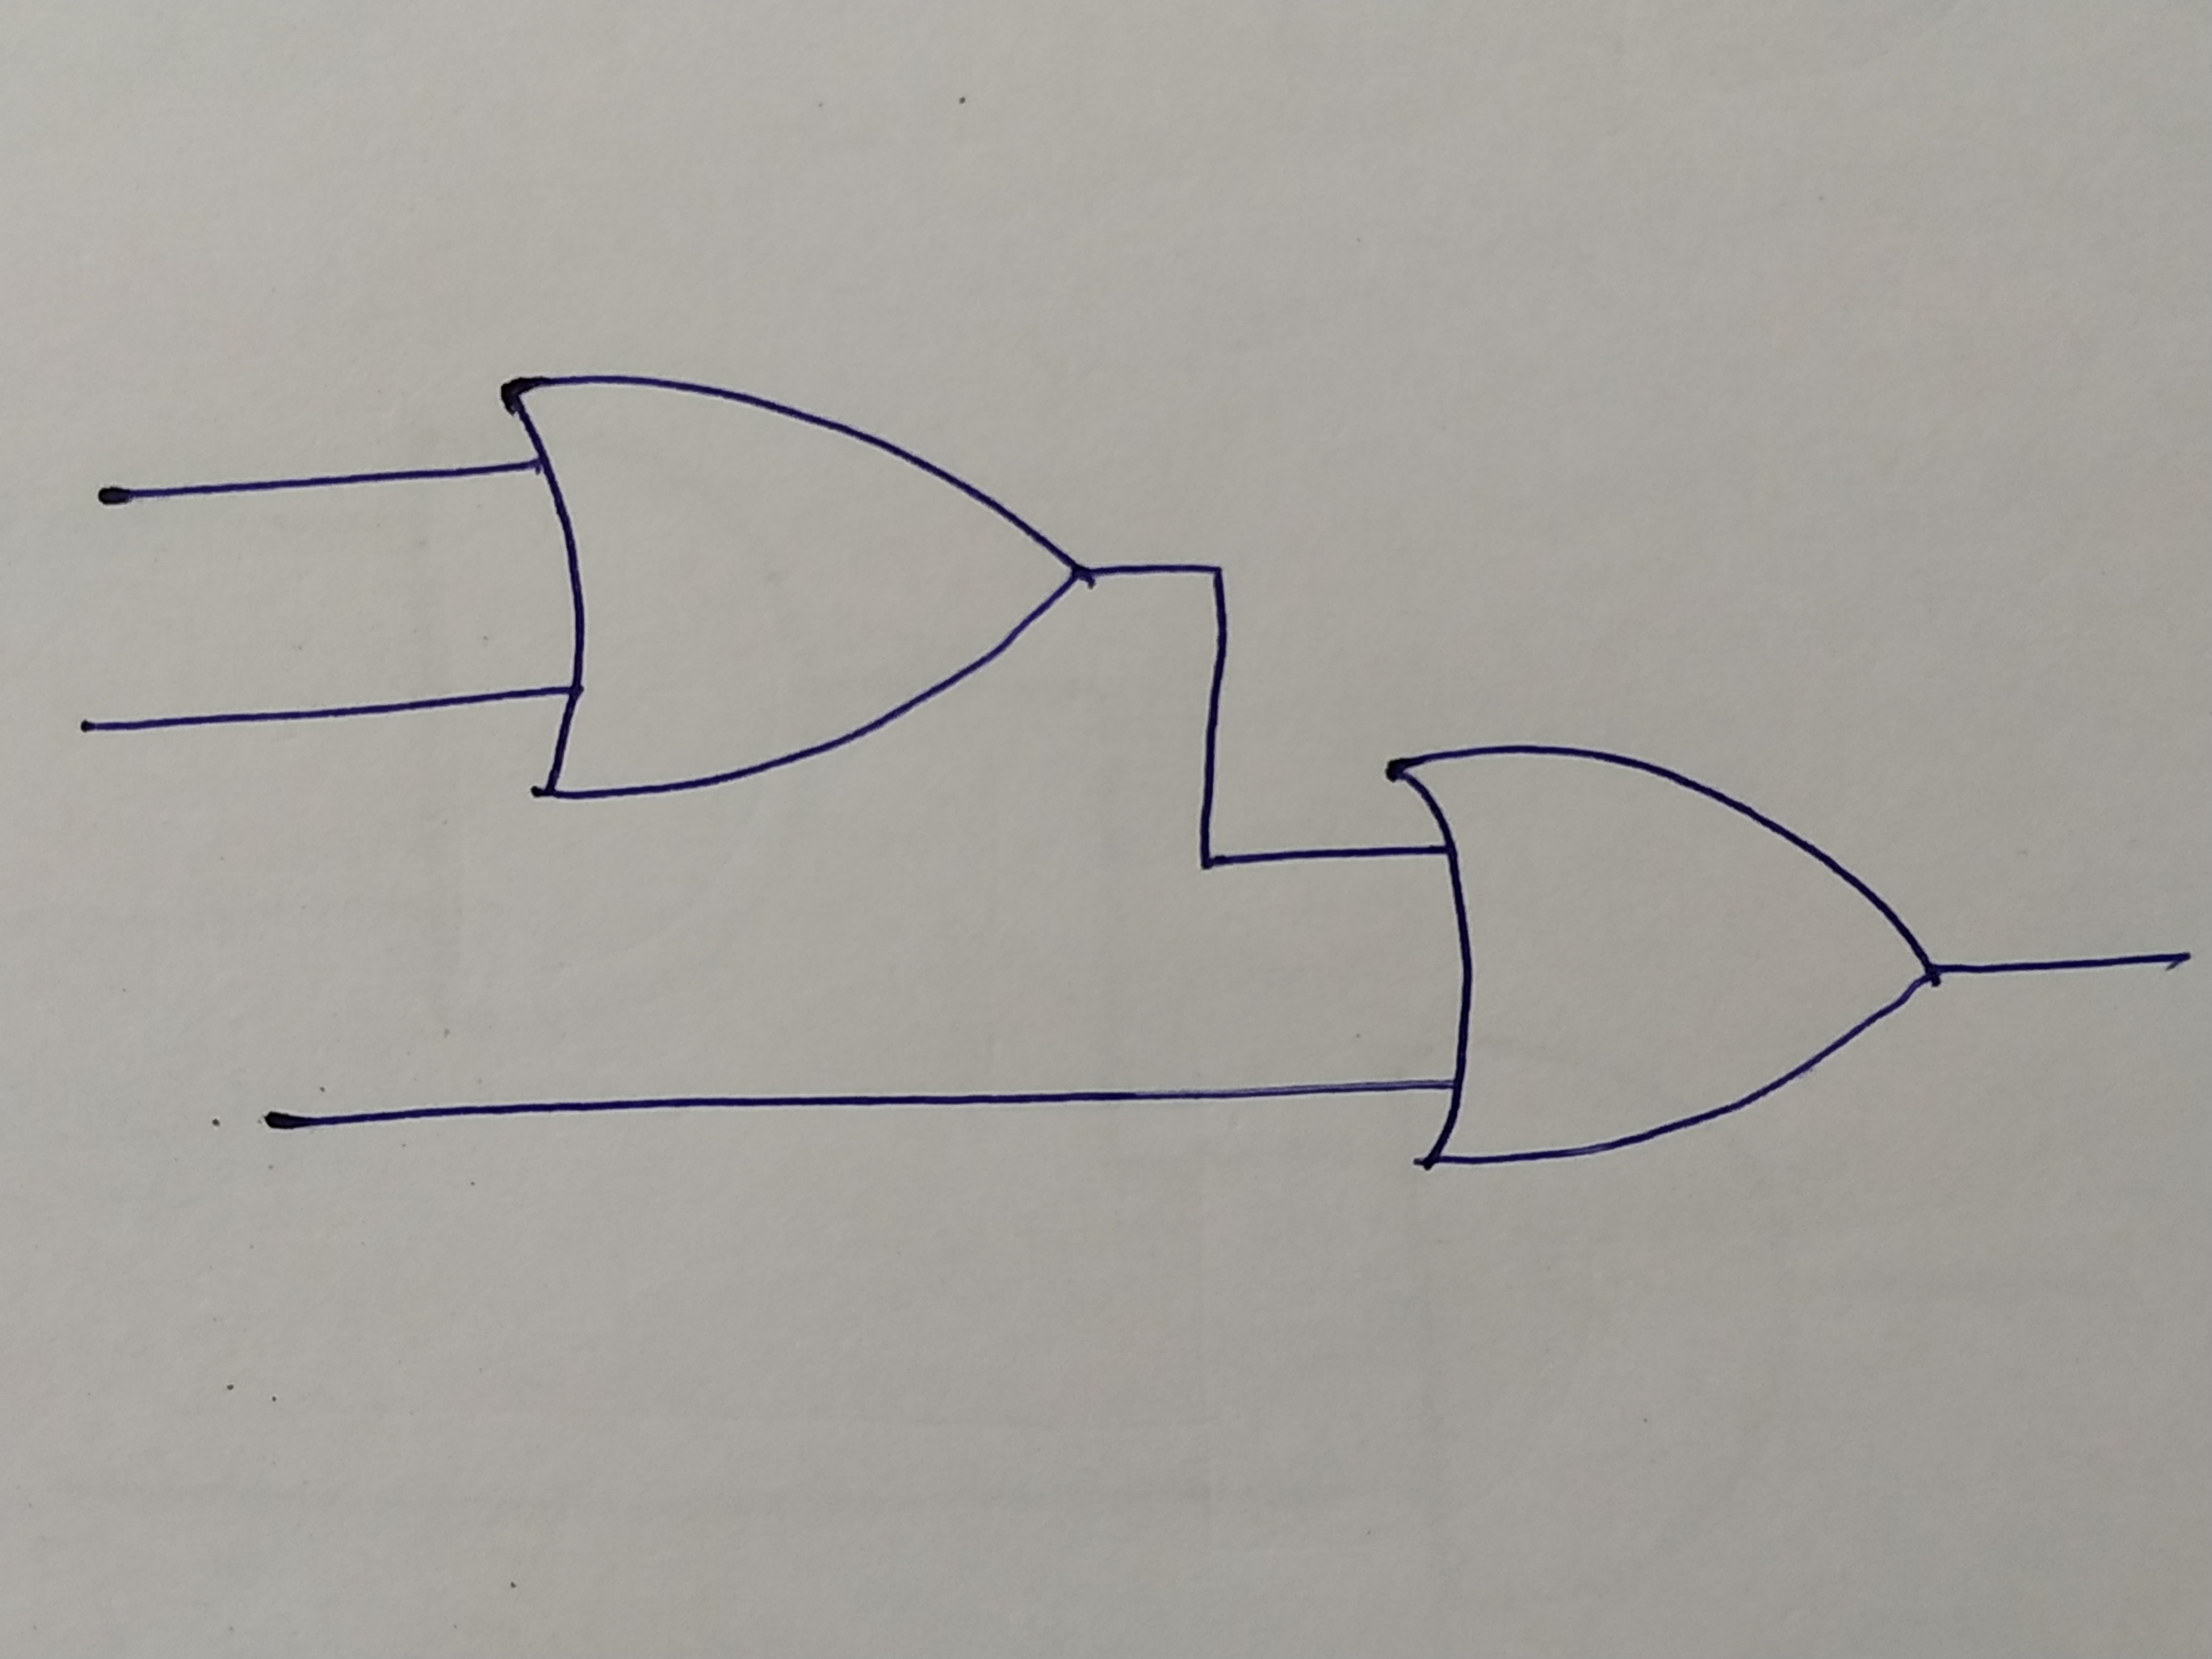or: (493, 375, 1085, 798), (1386, 748, 1939, 1171)
